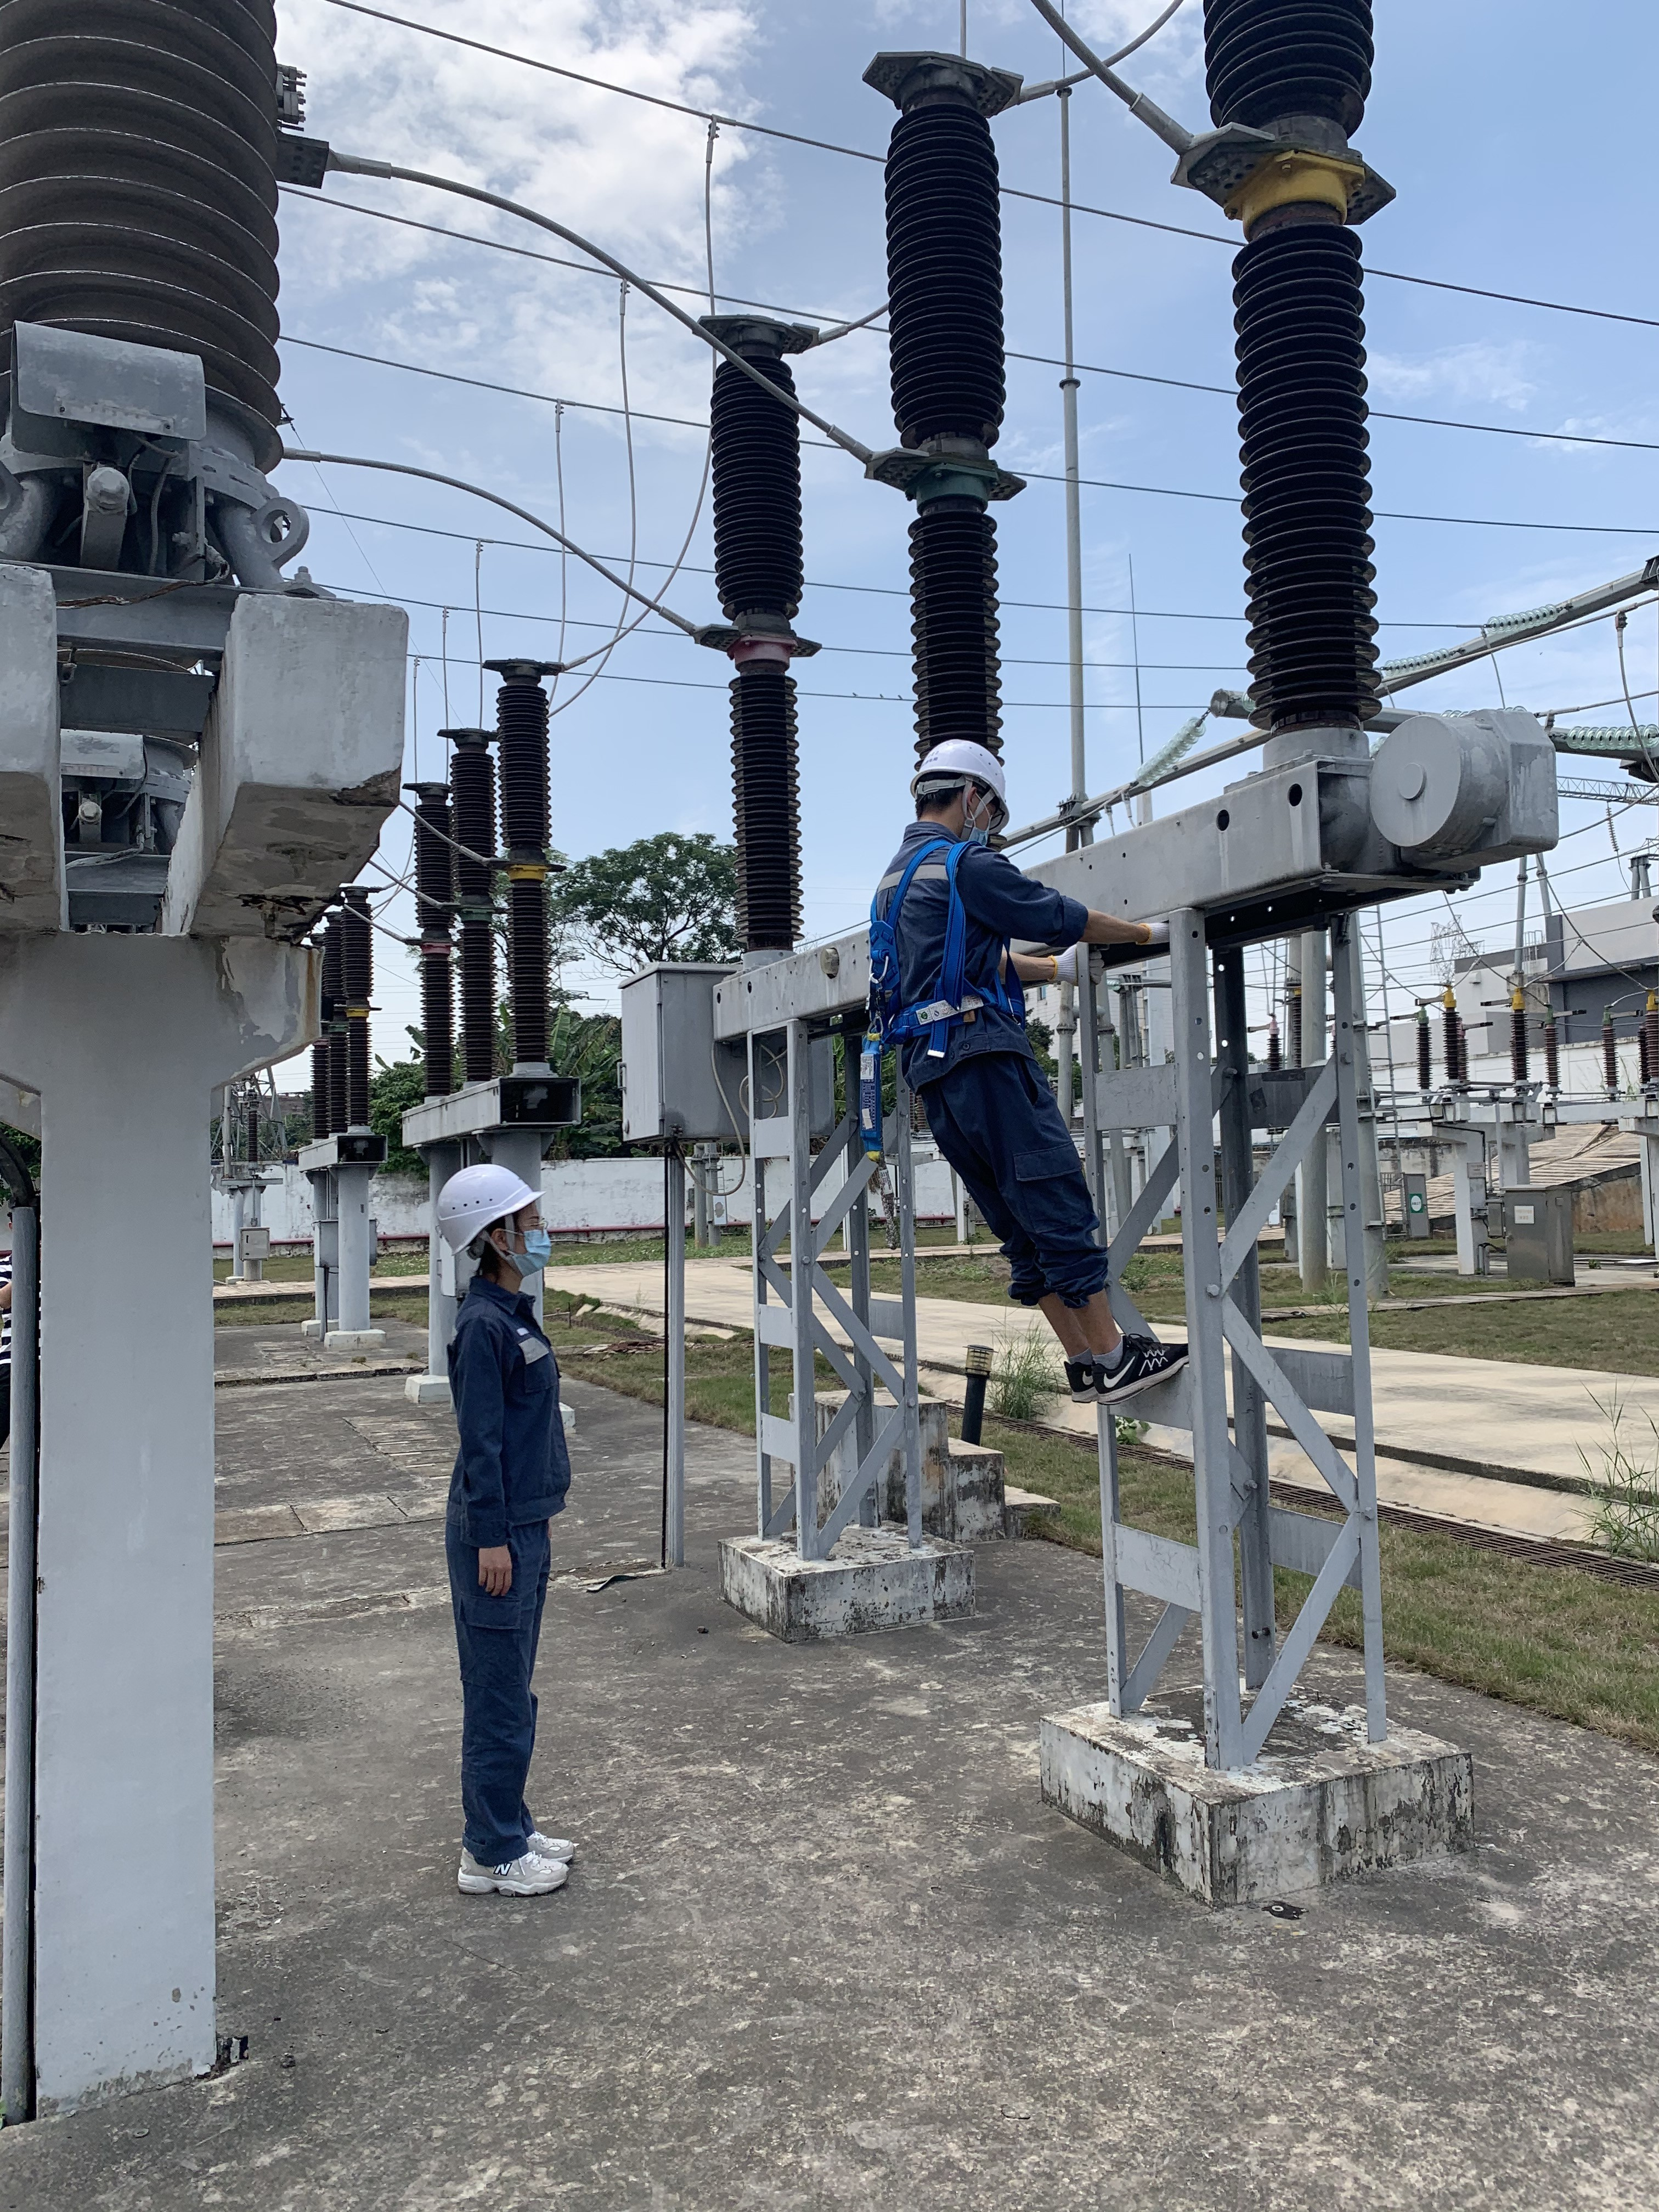downsuit: (910, 1066, 1126, 1298), (430, 1514, 558, 1850)
upsuit: (850, 829, 1098, 1050), (434, 1287, 586, 1491)
wrongbottom: (1012, 1252, 1121, 1369)
wrongtop: (1002, 885, 1168, 993)
